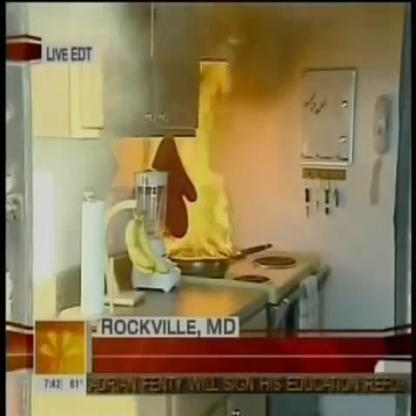fire: (162, 128, 239, 267)
